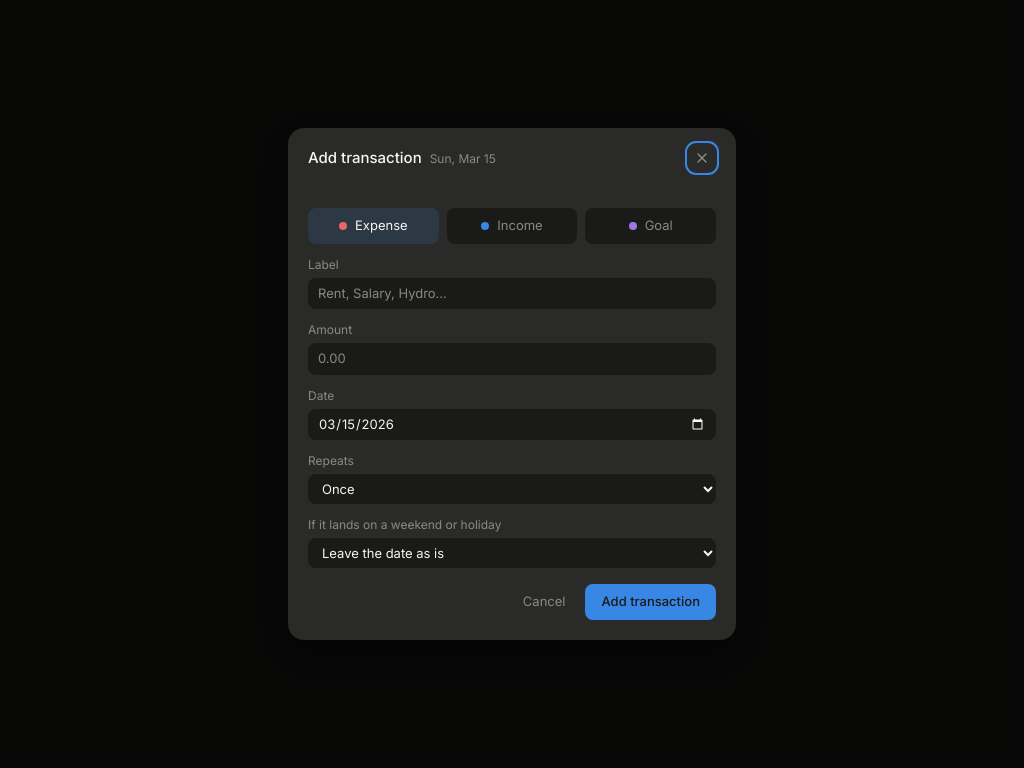
Test: goal contributions › shows a goal picker instead of a label field when goal is selected
Click the radio button labelled "goal". click: (651, 226)
box: [585,208,716,244]
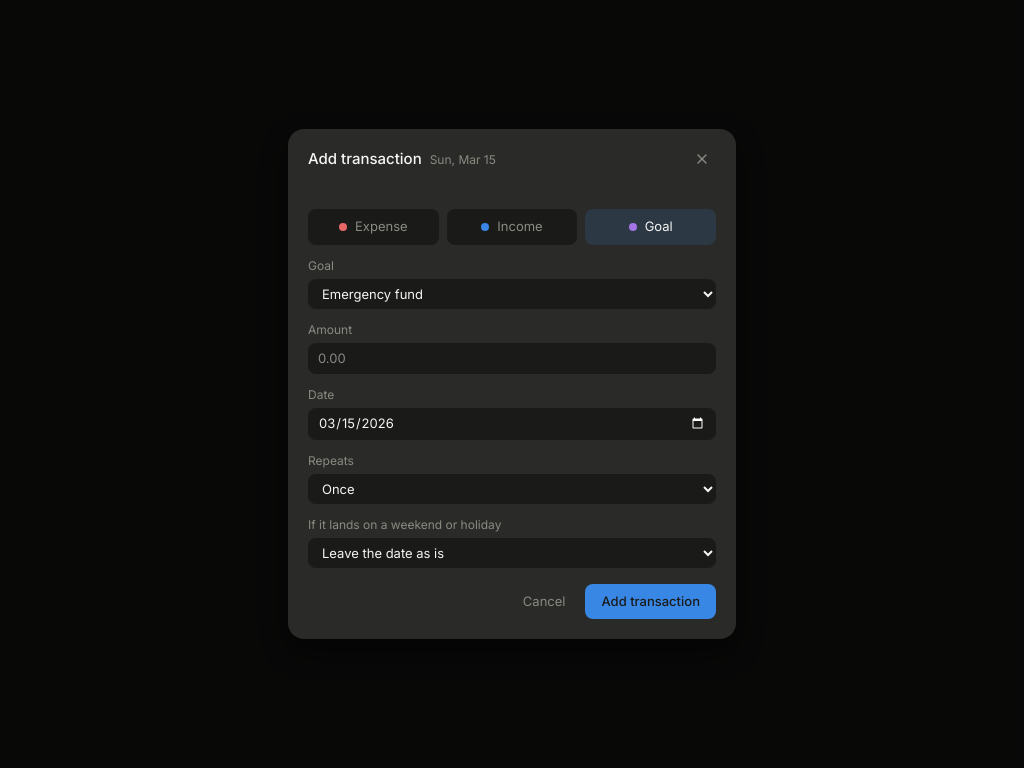
Result: the text labelled "Label" is gone
Result: the dropdown labelled "Goal" is shown at [308,278,716,308]
